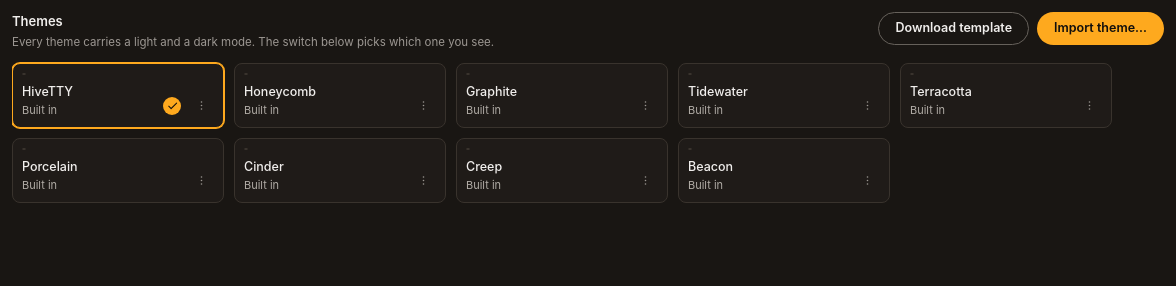
Scenario: ThemeGallery › offers no Remove on creep
Click the button named "Creep actions" at (646, 181), box [633,168,658,193]
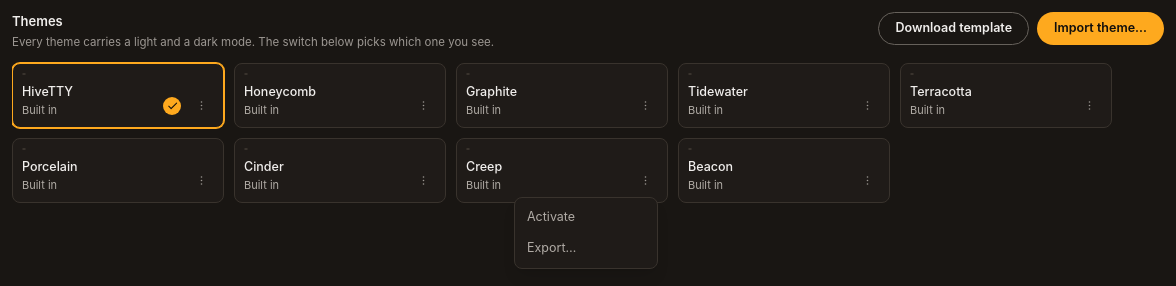
Now the menu item "Export…" is shown, box [527,240,576,255]
